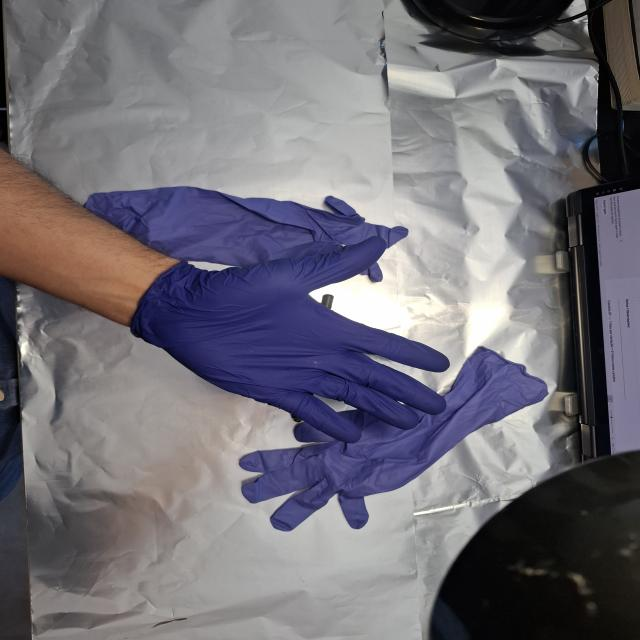glove_on: (124, 237, 453, 446)
